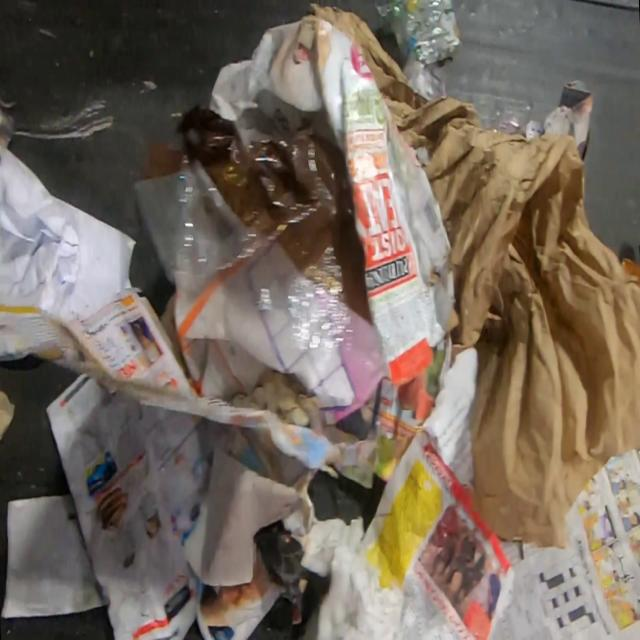cardboard: (255, 15, 460, 390)
soft_plastic: (175, 102, 382, 379), (374, 0, 464, 99), (132, 171, 182, 285)
